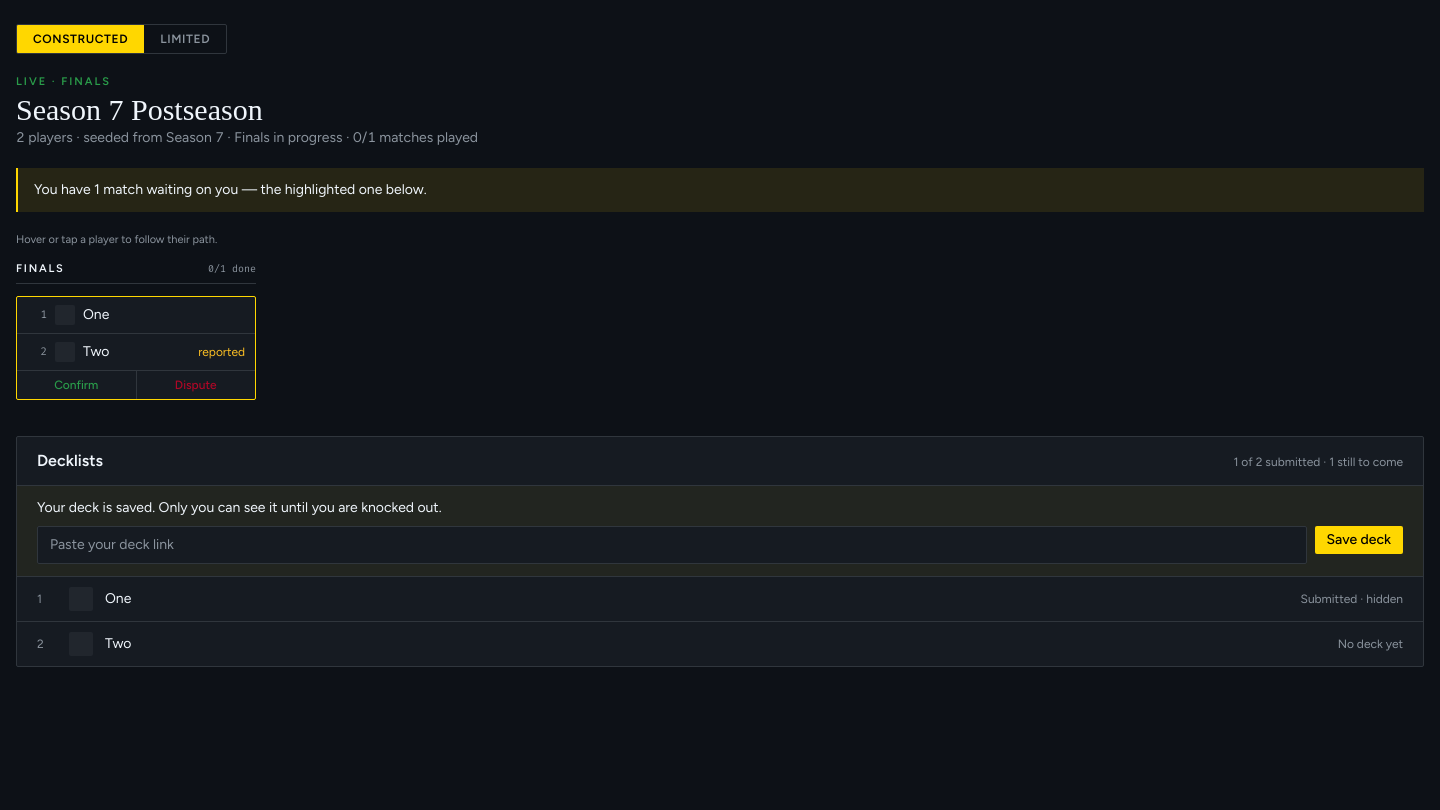
Scenario: Bracket page › disputes a report
What coordinates should you click on to do the following:
click the button "Dispute"
I would click on:
 (195, 385)
Its box is [136,371,255,399].
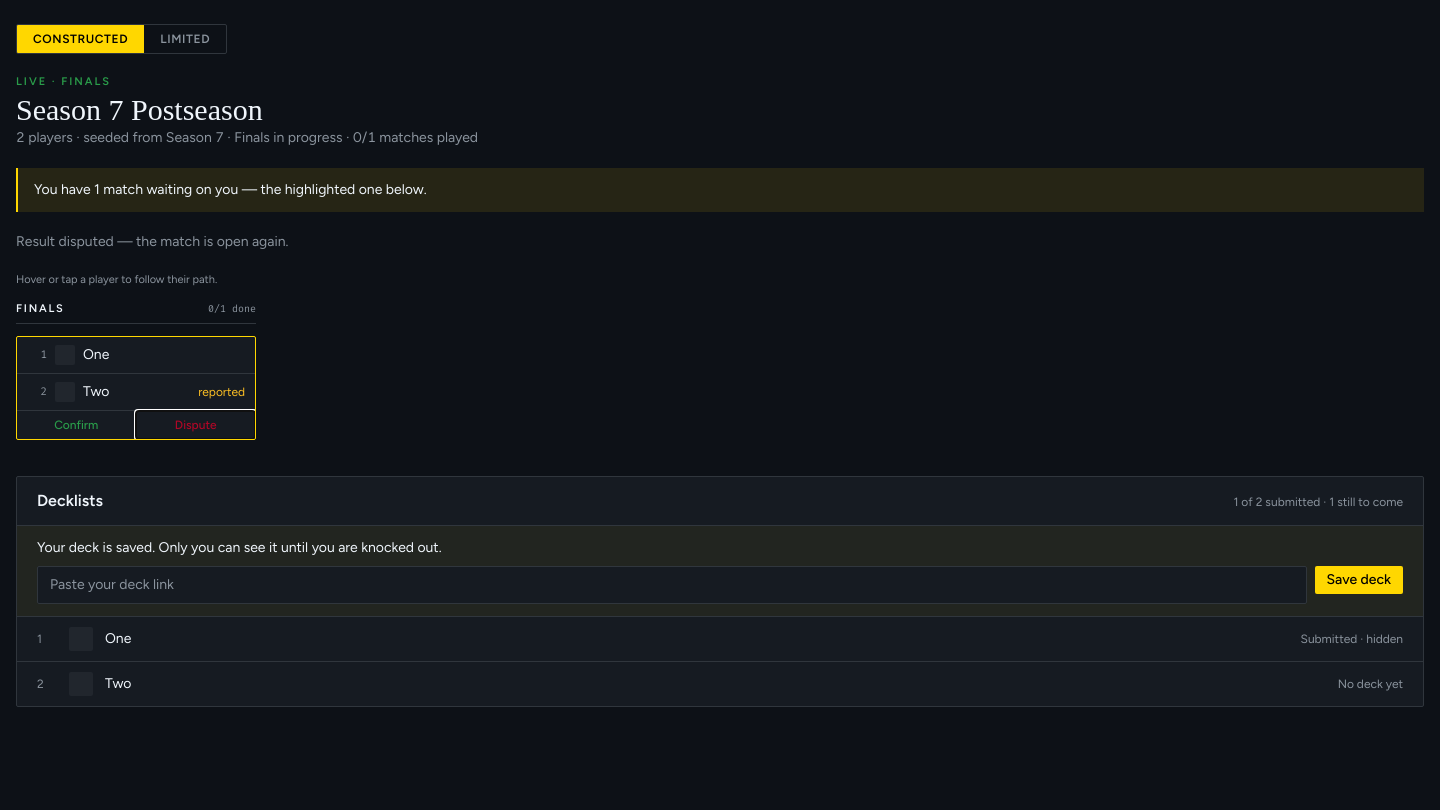
Result: the text "Result disputed — the match is open again." is shown at [16,233,288,250]
